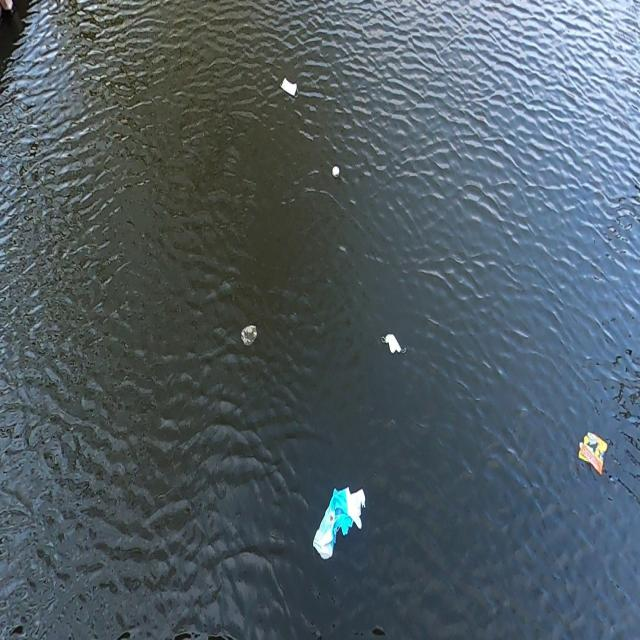Autre plastique: (575, 425, 609, 485)
Non plastique: (379, 327, 408, 360), (275, 71, 304, 98)
Sac plastique: (309, 483, 367, 566)
